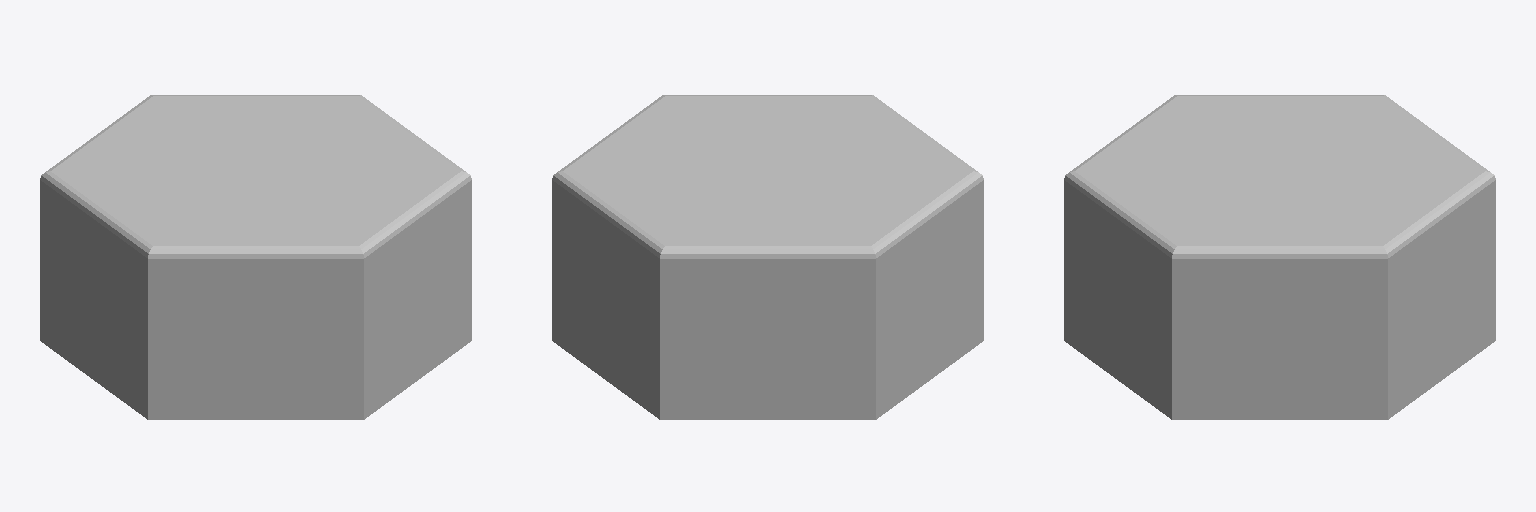
Rendered from hex_rock.obj.
3 views of the same model, side by side, from view 1: azimuth 30°, elevation 25°; view 2: azimuth 150°, elevation 25°; view 3: azimuth 270°, elevation 25° (orthographic).
Visible parts, largest first — view 1: hex_rock_Cylinder.600; view 2: hex_rock_Cylinder.600; view 3: hex_rock_Cylinder.600.
Part boxes in pixels (bbox=[...]): hex_rock_Cylinder.600: bbox=[40, 95, 471, 419]; hex_rock_Cylinder.600: bbox=[552, 95, 983, 419]; hex_rock_Cylinder.600: bbox=[1064, 95, 1495, 419].
Size of the model in its own units: 2 by 1 by 2.31.